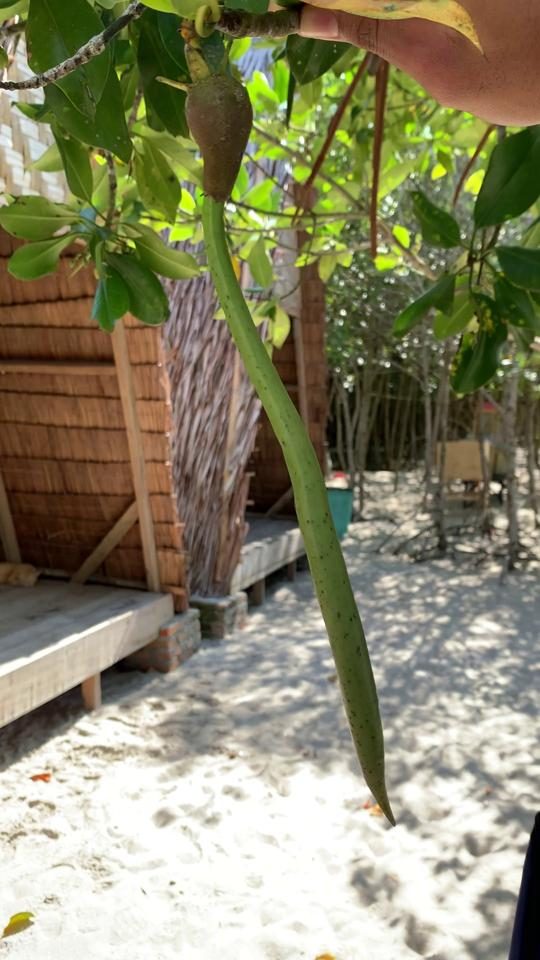mentah: (139, 37, 419, 848)
